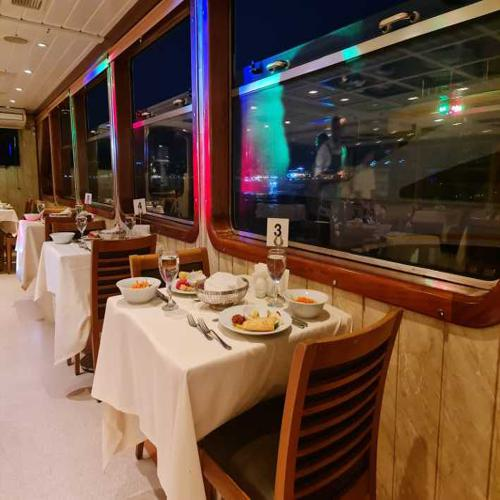copa: (158, 252, 182, 313), (267, 248, 287, 311), (75, 215, 89, 250)
